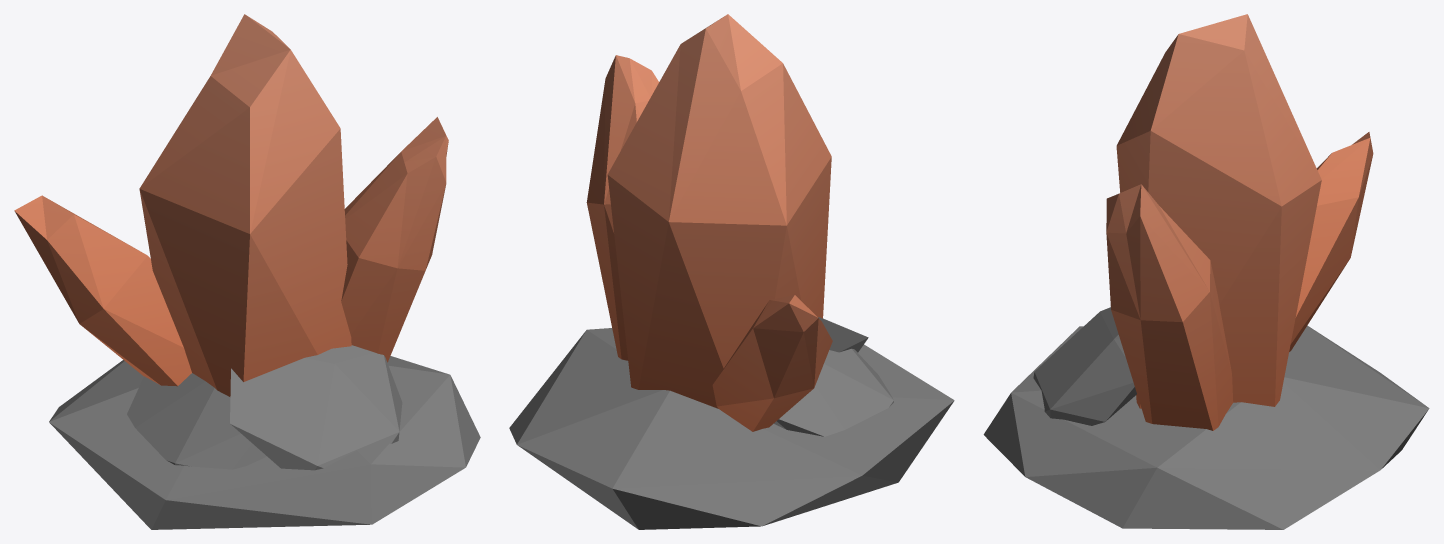
The model's file is Crystal_10.fbx.
3 views of the same model, side by side, from view 1: azimuth 30°, elevation 25°; view 2: azimuth 150°, elevation 25°; view 3: azimuth 270°, elevation 25° (orthographic).
Parts seen in each view (by area): view 1: Crystal_10; view 2: Crystal_10; view 3: Crystal_10.
Boxes of the visible parts, x1,y1,x2,y2 form: Crystal_10: (14, 14, 480, 529); Crystal_10: (509, 14, 954, 529); Crystal_10: (983, 14, 1429, 529).
Size of the model in its own units: 0.5419 by 0.6603 by 0.5883.
